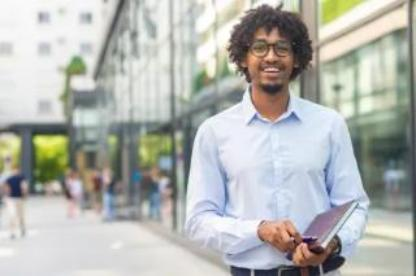person: (179, 1, 373, 274)
